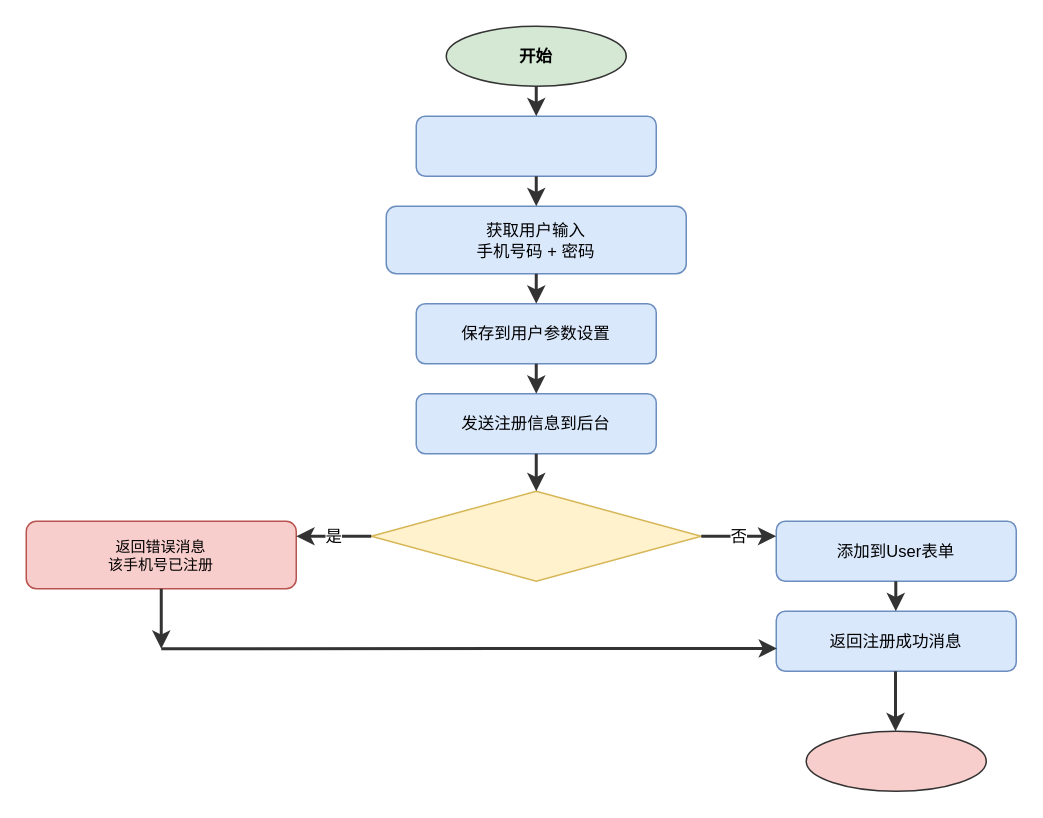
This 1043x818 diagram has some shape labels left out. The centre of each missing label's shape, as x and y in pixels:
数据库User表匹配 是否已注册？: [535,535]
系统初始化完成: [535,145]
结束: [895,760]
